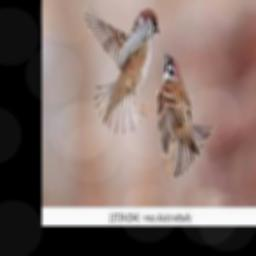Sparrow: (84, 9, 160, 136), (158, 51, 216, 177)
